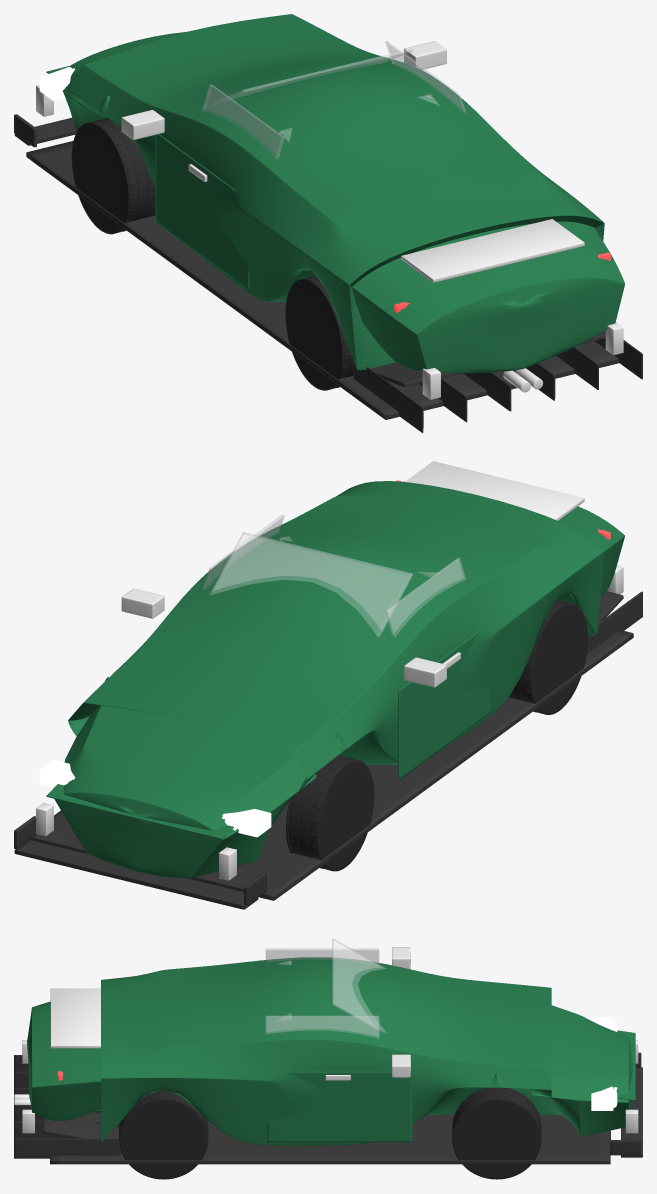
The model's file is Car_Triumph_Spitfire_1500_1970s_Complete.glb.
3 renders of one model, top to bottom at view 1: azimuth 30°, elevation 25°; view 2: azimuth 150°, elevation 25°; view 3: azimuth 270°, elevation 25°, orthographic. The views are drawn at different scales.
Visible parts, largest first — view 1: BODY_MainShell, UNDERBODY_FlatFloor, WHEEL_FL_Tire, BODY_Door_FL, JEWELRY_Spitfire_LuggageRack, WHEEL_RL_Tire, GLASS_Greenhouse, JEWELRY_Hardware, JEWELRY_Spitfire_Bumperettes, AERO_FrontSplitter, LIGHTING_Headlamps, JEWELRY_Spitfire_DualExhaust; view 2: BODY_MainShell, UNDERBODY_FlatFloor, GLASS_Greenhouse, WHEEL_FL_Tire, BODY_Door_FL, WHEEL_RL_Tire, AERO_FrontSplitter, JEWELRY_Spitfire_LuggageRack, JEWELRY_Hardware, LIGHTING_Headlamps, JEWELRY_Spitfire_Bumperettes, BODY_Hood; view 3: BODY_MainShell, UNDERBODY_FlatFloor, BODY_Door_FR, WHEEL_FR_Tire, WHEEL_RR_Tire, GLASS_Greenhouse, JEWELRY_Spitfire_LuggageRack, AERO_FrontSplitter, JEWELRY_Hardware, JEWELRY_Spitfire_Bumperettes, LIGHTING_Headlamps, BODY_Hood.
Boxes of the visible parts, left/top/right/bottom form: BODY_MainShell: left=63, top=14, right=624, bottom=373; UNDERBODY_FlatFloor: left=26, top=141, right=642, bottom=432; WHEEL_FL_Tire: left=71, top=118, right=155, bottom=234; BODY_Door_FL: left=155, top=134, right=249, bottom=290; JEWELRY_Spitfire_LuggageRack: left=401, top=219, right=584, bottom=282; WHEEL_RL_Tire: left=285, top=276, right=353, bottom=390; GLASS_Greenhouse: left=202, top=41, right=465, bottom=158; JEWELRY_Hardware: left=121, top=41, right=446, bottom=181; JEWELRY_Spitfire_Bumperettes: left=36, top=85, right=623, bottom=399; AERO_FrontSplitter: left=14, top=114, right=76, bottom=147; LIGHTING_Headlamps: left=39, top=67, right=74, bottom=101; JEWELRY_Spitfire_DualExhaust: left=503, top=368, right=543, bottom=392; BODY_MainShell: left=54, top=481, right=624, bottom=878; UNDERBODY_FlatFloor: left=30, top=591, right=642, bottom=900; GLASS_Greenhouse: left=202, top=514, right=465, bottom=636; WHEEL_FL_Tire: left=286, top=755, right=374, bottom=871; BODY_Door_FL: left=398, top=630, right=492, bottom=779; WHEEL_RL_Tire: left=509, top=600, right=587, bottom=714; AERO_FrontSplitter: left=14, top=816, right=266, bottom=909; JEWELRY_Spitfire_LuggageRack: left=405, top=461, right=584, bottom=520; JEWELRY_Hardware: left=121, top=588, right=460, bottom=687; LIGHTING_Headlamps: left=39, top=760, right=271, bottom=837; JEWELRY_Spitfire_Bumperettes: left=36, top=565, right=623, bottom=880; BODY_Hood: left=46, top=784, right=233, bottom=839; BODY_MainShell: left=27, top=957, right=633, bottom=1145; UNDERBODY_FlatFloor: left=14, top=1055, right=610, bottom=1164; BODY_Door_FR: left=267, top=1071, right=412, bottom=1142; WHEEL_FR_Tire: left=452, top=1087, right=541, bottom=1179; WHEEL_RR_Tire: left=119, top=1089, right=208, bottom=1179; GLASS_Greenhouse: left=265, top=938, right=385, bottom=1037; JEWELRY_Spitfire_LuggageRack: left=50, top=988, right=100, bottom=1048; AERO_FrontSplitter: left=610, top=1052, right=642, bottom=1157; JEWELRY_Hardware: left=325, top=947, right=410, bottom=1080; JEWELRY_Spitfire_Bumperettes: left=22, top=1040, right=638, bottom=1133; LIGHTING_Headlamps: left=591, top=1017, right=617, bottom=1110; BODY_Hood: left=617, top=1030, right=635, bottom=1100.
Size of what is drawn, in the model's own units: 1.79 by 1.13 by 3.98.
